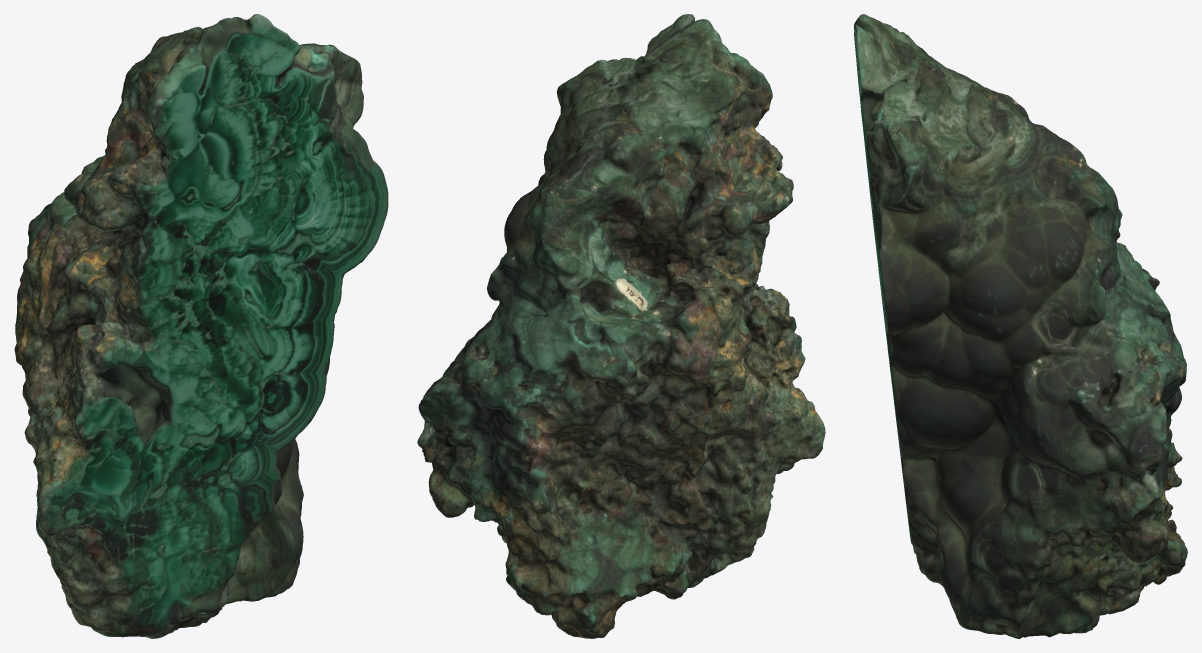
File: malachite.glb
3 views of the same model, side by side, from view 1: azimuth 30°, elevation 25°; view 2: azimuth 150°, elevation 25°; view 3: azimuth 270°, elevation 25° (orthographic). The views are drawn at different scales.
Visible parts, largest first — view 1: Object_2; view 2: Object_2; view 3: Object_2.
Boxes of the visible parts, box(x1,y1,x2,y2) form: Object_2: box(14, 14, 388, 638); Object_2: box(417, 14, 825, 638); Object_2: box(854, 14, 1187, 638).
Size of the model in its own units: 107 by 184 by 95.21.
Materials: 1 (1 with a texture image).
